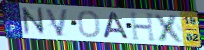A: (103, 11, 131, 40)
H: (128, 11, 158, 43)
N: (19, 6, 48, 37)
O: (77, 9, 102, 39)
V: (44, 8, 70, 38)
X: (152, 12, 187, 44)
